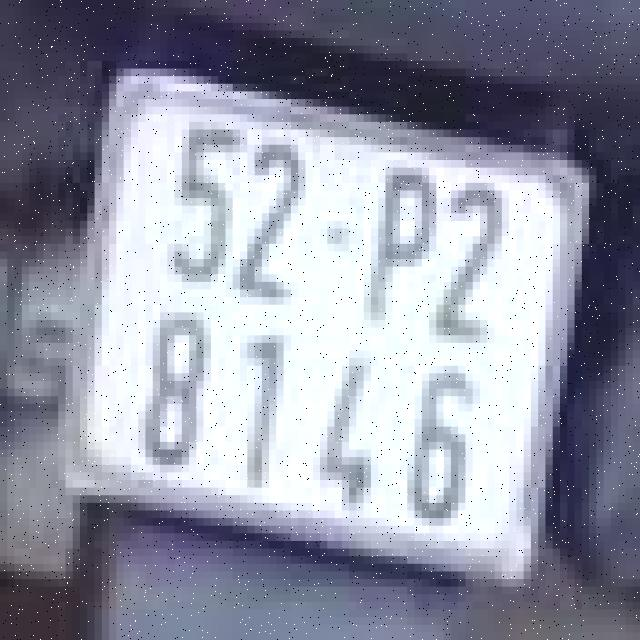1: (229, 328, 287, 510)
2: (236, 118, 309, 316), (436, 156, 509, 347)
4: (309, 339, 382, 514)
5: (171, 114, 236, 297)
6: (407, 358, 480, 533)
8: (138, 309, 211, 476)
P: (356, 156, 436, 339)
